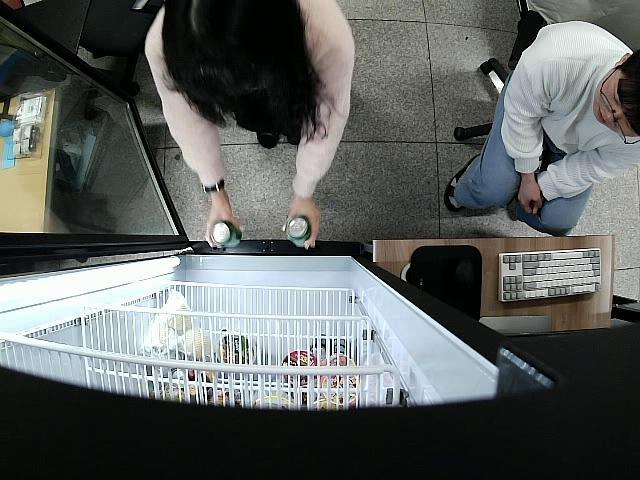12_chilsungCider: (288, 214, 313, 252), (212, 221, 242, 248)
